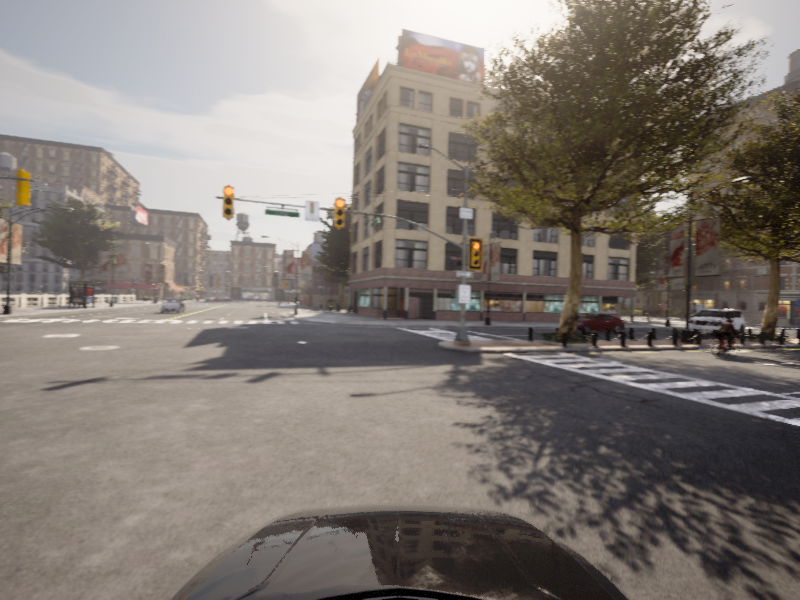vehicle: (682, 307, 749, 338), (704, 317, 748, 358), (559, 312, 629, 334), (158, 297, 187, 313)
